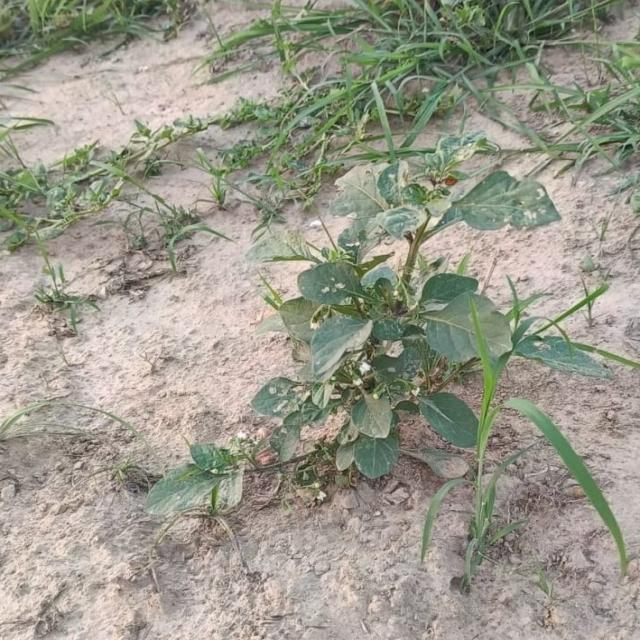weed: (253, 138, 608, 480), (147, 446, 250, 516)
